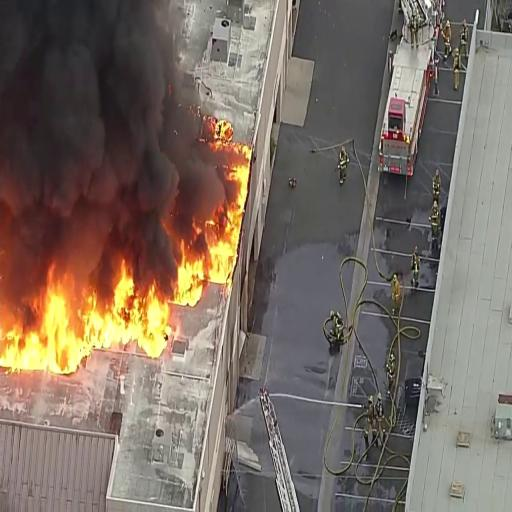fire: (4, 275, 86, 377), (94, 276, 158, 340), (166, 246, 218, 306), (222, 146, 245, 278)
smoke: (0, 0, 161, 255)
